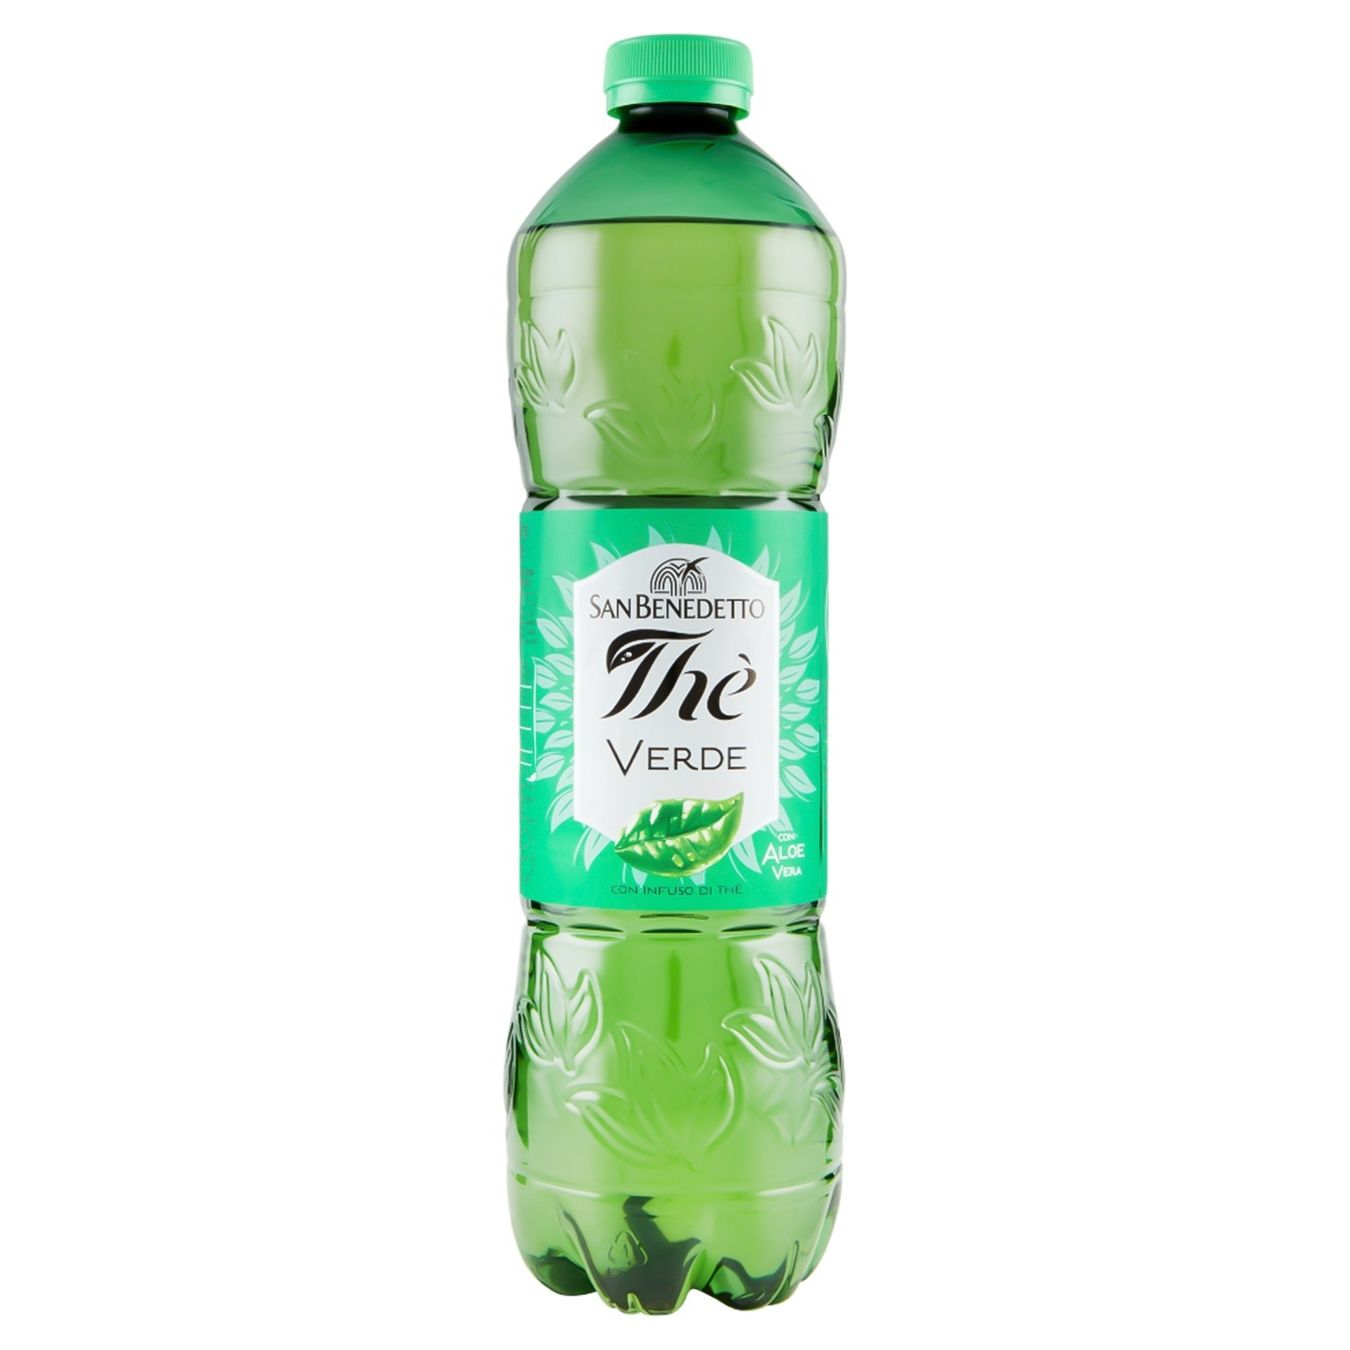PlasticBottle: (473, 28, 926, 1344)
